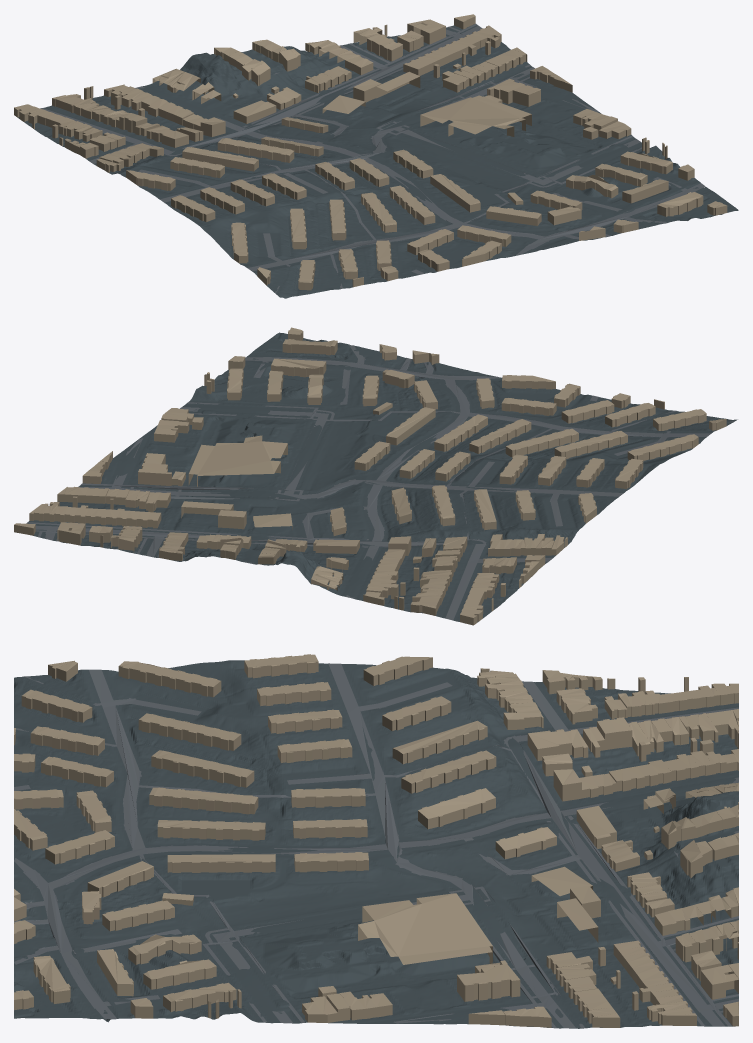
Rendered from epsg26910-1435-10869.lod0.glb.
The picture shows the model from 3 angles, top to bottom: view 1: azimuth 30°, elevation 25°; view 2: azimuth 150°, elevation 25°; view 3: azimuth 270°, elevation 25°; orthographic projection. The views are drawn at different scales.
Visible parts, largest first — view 1: epsg26910-1435-10869-lod0; view 2: epsg26910-1435-10869-lod0; view 3: epsg26910-1435-10869-lod0.
Part boxes in pixels (x1,y1,x2,y2): epsg26910-1435-10869-lod0: (14, 14, 738, 298); epsg26910-1435-10869-lod0: (14, 327, 737, 625); epsg26910-1435-10869-lod0: (14, 654, 738, 1028).
Bounding box in the file's own units: 384 × 40.63 × 384.
